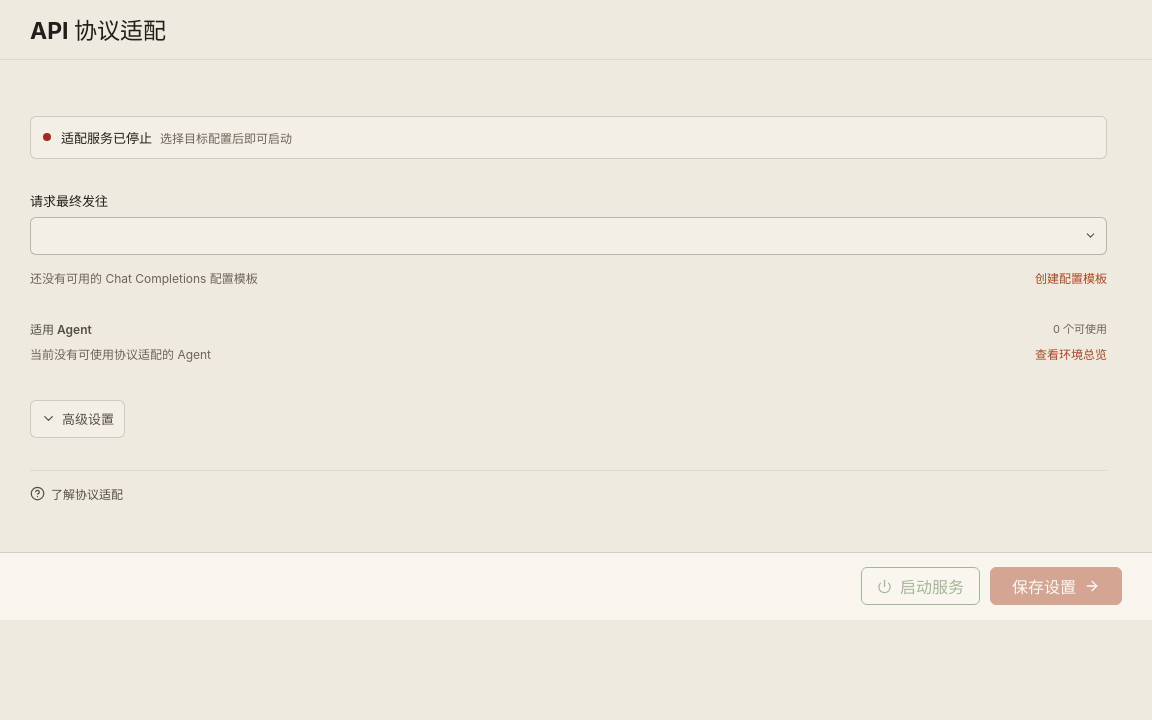
Test case: ConversionPage › keeps the operational controls ahead of optional protocol guidance
Click the heading "了解协议适配" at {"x": 76, "y": 493}, box x1=30 y1=485 x2=123 y2=502
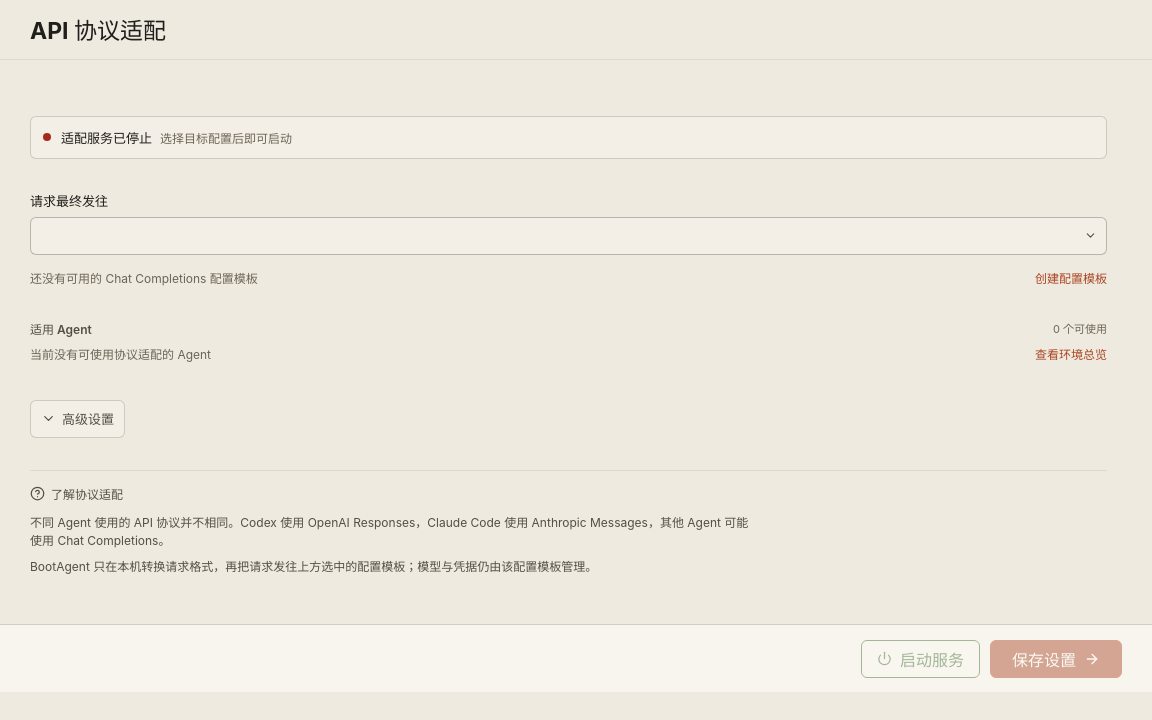
Result: the text "不同 Agent 使用的 API 协议并不相同" is shown at x1=30 y1=515 x2=748 y2=548
